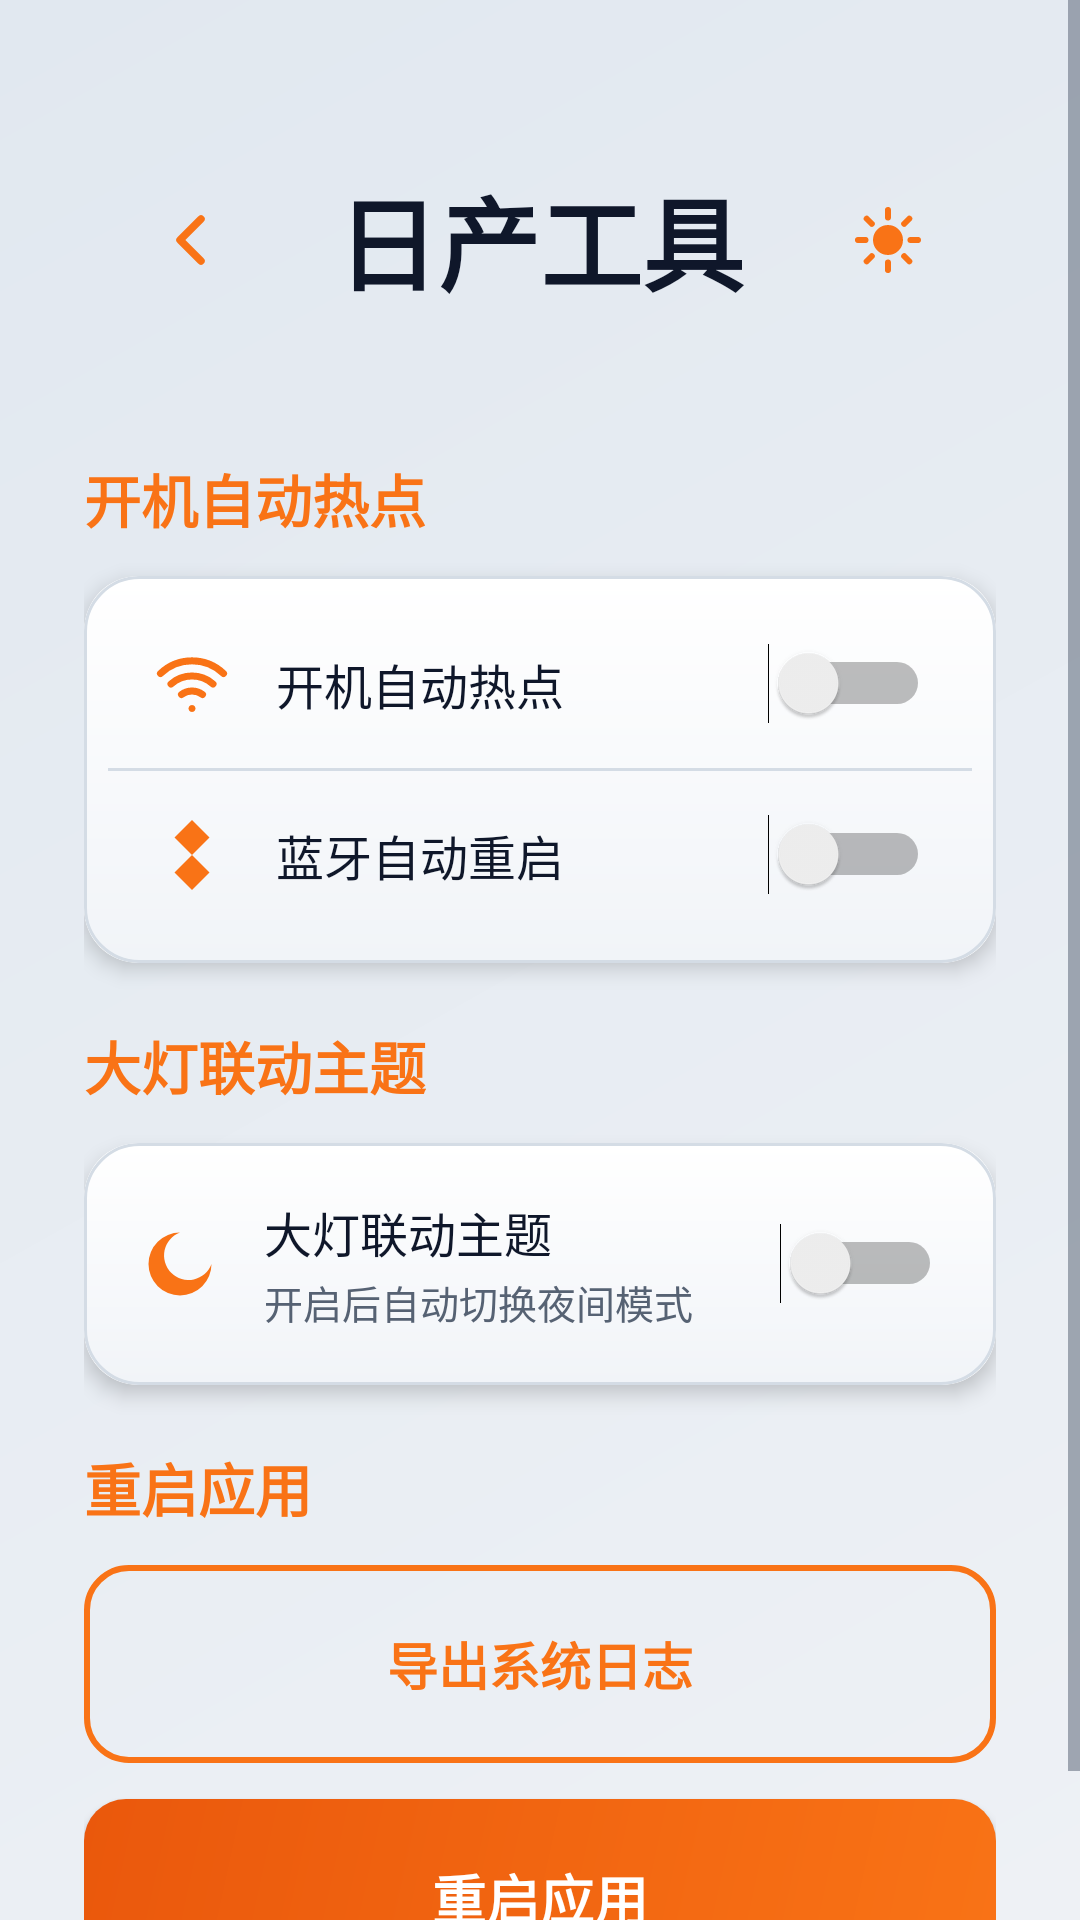

Where icons sit on this 1080x1920 app screen, as bbox(x1, y1, x2, y2):
moon: bbox(148, 1232, 212, 1296)
wifi: bbox(156, 657, 228, 712)
切换昼夜: bbox(855, 207, 921, 273)
返回: bbox(176, 215, 205, 265)
